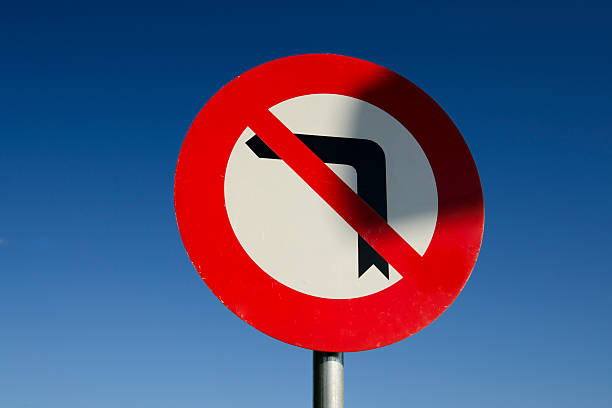sola_girilmez: (171, 49, 483, 358)
